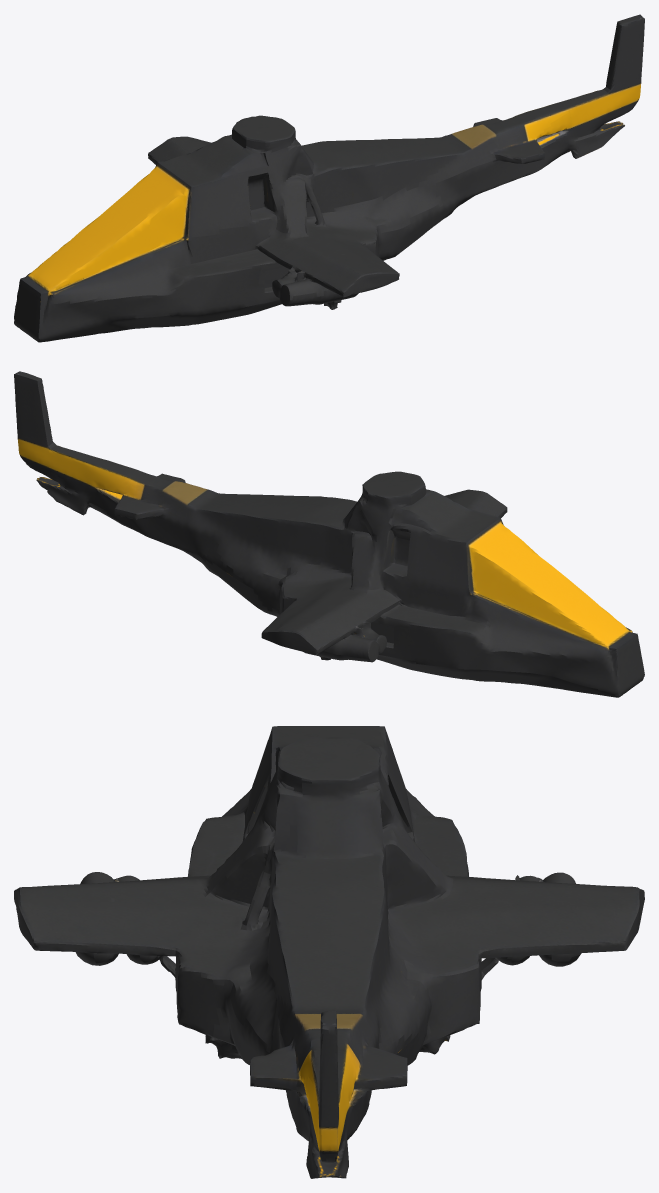
Rendered from body.glb.
The picture shows the model from 3 angles, top to bottom: view 1: azimuth 30°, elevation 25°; view 2: azimuth 150°, elevation 25°; view 3: azimuth 270°, elevation 25°; orthographic projection. The views are drawn at different scales.
Visible parts, largest first — view 1: Mesh0; view 2: Mesh0; view 3: Mesh0.
Part boxes in pixels (x1,y1,x2,y2): Mesh0: (14, 14, 644, 342); Mesh0: (14, 371, 644, 697); Mesh0: (14, 726, 644, 1178).
Size of the model in its own units: 1.9 by 0.5493 by 1.03.
Materials: 1 (1 with a texture image).
